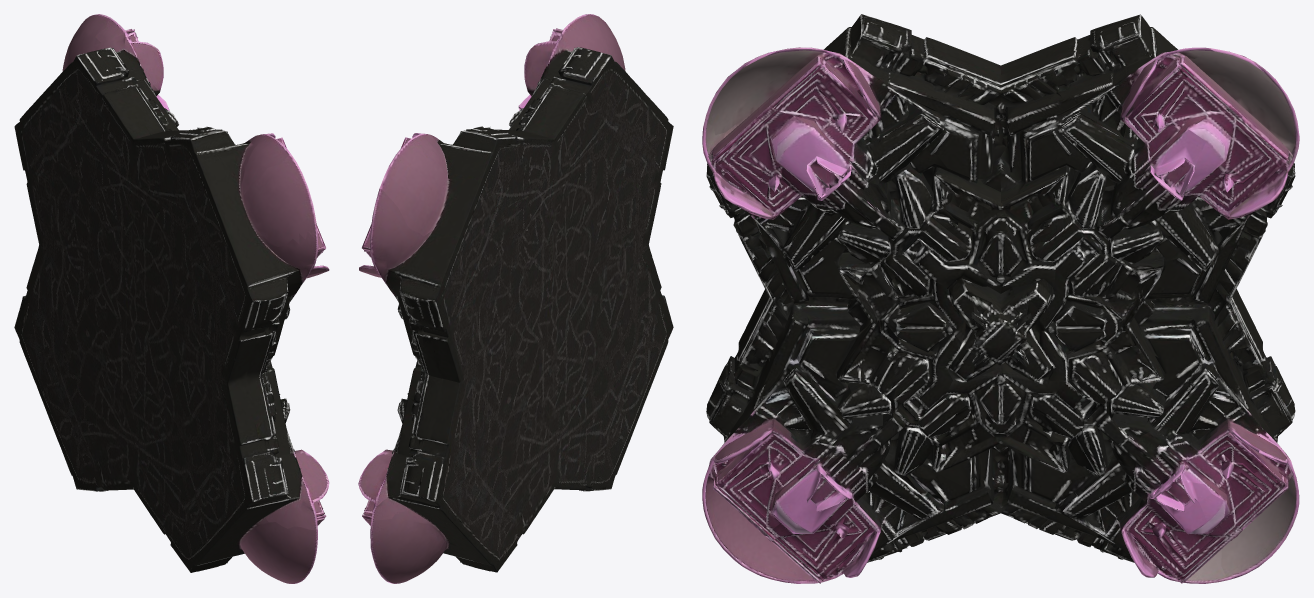
File: Enemigo5.glb
3 renders of one model, left to right at view 1: azimuth 30°, elevation 25°; view 2: azimuth 150°, elevation 25°; view 3: azimuth 270°, elevation 25°, orthographic. The views are drawn at different scales.
Visible parts, largest first — view 1: tripo_node_8e27bd1c-362b-484e-a1e7-d62a6b33acc6; view 2: tripo_node_8e27bd1c-362b-484e-a1e7-d62a6b33acc6; view 3: tripo_node_8e27bd1c-362b-484e-a1e7-d62a6b33acc6.
Boxes of the visible parts, x1,y1,x2,y2 form: tripo_node_8e27bd1c-362b-484e-a1e7-d62a6b33acc6: [14, 14, 329, 583]; tripo_node_8e27bd1c-362b-484e-a1e7-d62a6b33acc6: [358, 14, 673, 583]; tripo_node_8e27bd1c-362b-484e-a1e7-d62a6b33acc6: [702, 14, 1299, 583].
Bounding box in the file's own units: 0.2504 × 0.9708 × 0.9799.
Materials: 1 (1 with a texture image).
